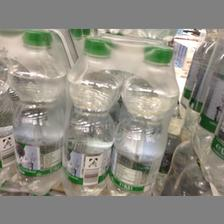Wasser: (105, 45, 178, 195), (60, 35, 120, 195), (6, 31, 62, 194)
